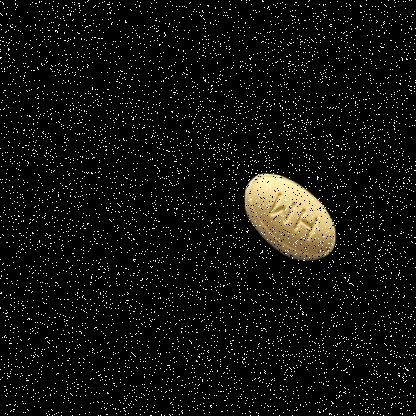tovast10: (228, 132, 361, 286)
